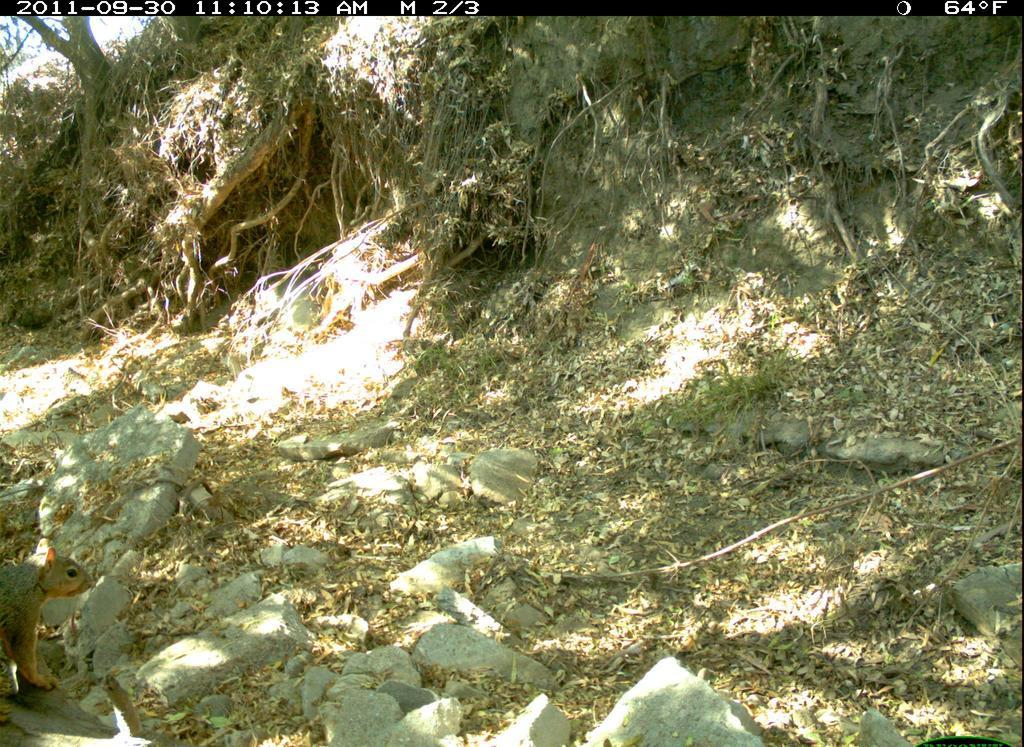squirrel: (2, 543, 100, 705)
